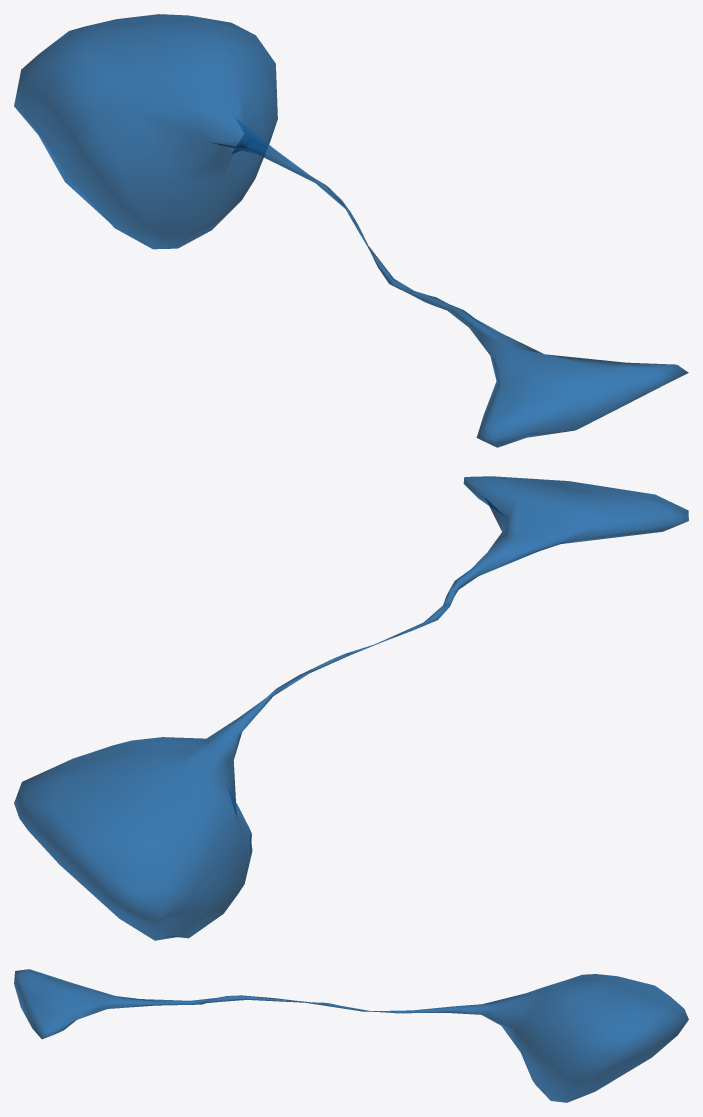
The model's file is spine-19-lr.obj.
3 renders of one model, top to bottom at view 1: azimuth 30°, elevation 25°; view 2: azimuth 150°, elevation 25°; view 3: azimuth 270°, elevation 25°, orthographic. The views are drawn at different scales.
Visible parts, largest first — view 1: spine-19-lr_Cube.048; view 2: spine-19-lr_Cube.048; view 3: spine-19-lr_Cube.048.
Boxes of the visible parts, bbox=[...] form: spine-19-lr_Cube.048: bbox=[14, 14, 688, 447]; spine-19-lr_Cube.048: bbox=[14, 476, 688, 940]; spine-19-lr_Cube.048: bbox=[14, 969, 688, 1102].
Bounding box in the file's own units: 0.5628 × 0.4179 × 2.12.
